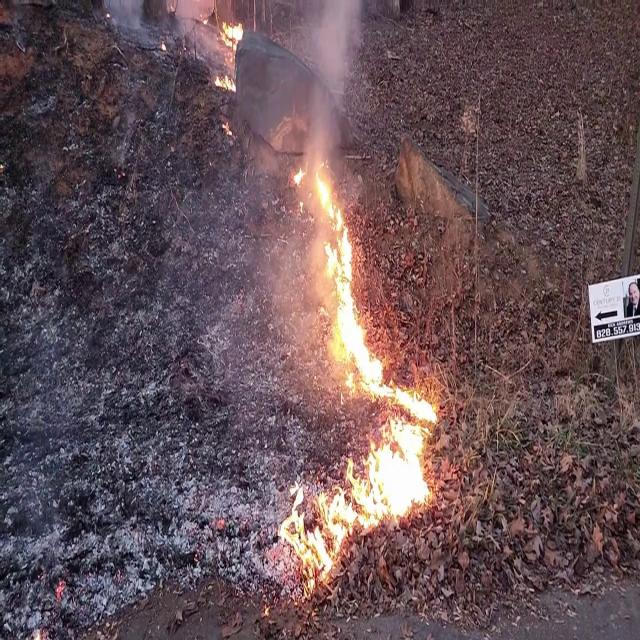Fire: (282, 155, 446, 585), (213, 16, 247, 90)
Smoke: (279, 0, 368, 156)
